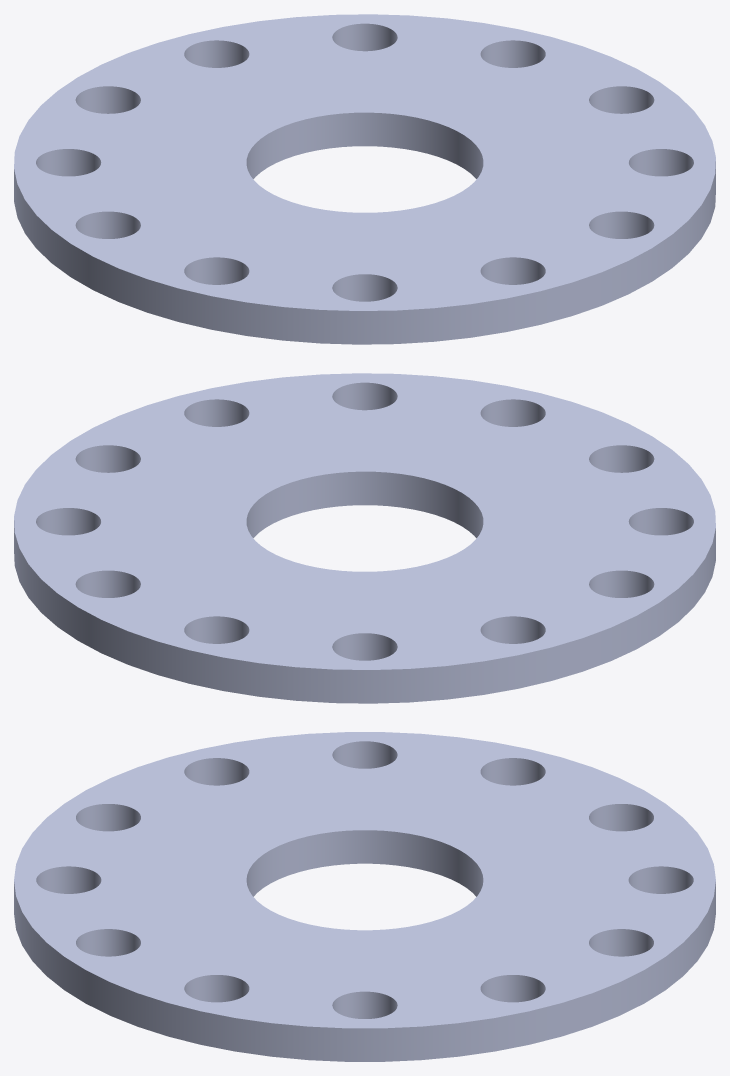
Rendered from _2025_Drivetrain_MotorSupport_R1.obj.
3 views of the same model, one above another, from view 1: azimuth 30°, elevation 25°; view 2: azimuth 150°, elevation 25°; view 3: azimuth 270°, elevation 25° (orthographic).
Parts seen in each view (by area): view 1: mesh17218, mesh17217, mesh17221, mesh17229, mesh17222, mesh17227, mesh17232, mesh17220, mesh17223, mesh17224, mesh17226, mesh17228 (+3 smaller); view 2: mesh17218, mesh17217, mesh17221, mesh17231, mesh17220, mesh17226, mesh17228, mesh17224, mesh17225, mesh17227, mesh17222, mesh17232 (+3 smaller); view 3: mesh17218, mesh17217, mesh17221, mesh17220, mesh17227, mesh17229, mesh17231, mesh17230, mesh17223, mesh17225, mesh17224, mesh17222 (+3 smaller).
Part boxes in pixels (x1,y1,x2,y2): mesh17218: [14, 14, 715, 310]; mesh17217: [14, 161, 715, 344]; mesh17221: [246, 112, 483, 179]; mesh17229: [184, 257, 249, 284]; mesh17222: [332, 23, 397, 51]; mesh17227: [480, 257, 545, 284]; mesh17232: [75, 86, 140, 113]; mesh17220: [184, 40, 249, 67]; mesh17223: [480, 40, 545, 67]; mesh17224: [589, 86, 654, 113]; mesh17226: [589, 211, 654, 238]; mesh17228: [332, 274, 397, 301]; mesh17218: [14, 373, 715, 669]; mesh17217: [14, 520, 715, 703]; mesh17221: [246, 471, 483, 538]; mesh17231: [480, 616, 545, 643]; mesh17220: [184, 616, 249, 643]; mesh17226: [332, 382, 397, 410]; mesh17228: [589, 445, 654, 472]; mesh17224: [75, 445, 140, 472]; mesh17225: [184, 399, 249, 426]; mesh17227: [480, 399, 545, 426]; mesh17222: [75, 570, 140, 597]; mesh17232: [332, 633, 397, 660]; mesh17218: [14, 732, 715, 1028]; mesh17217: [14, 882, 715, 1061]; mesh17221: [246, 830, 483, 896]; mesh17220: [628, 866, 693, 893]; mesh17227: [36, 866, 101, 893]; mesh17229: [184, 758, 249, 785]; mesh17231: [480, 758, 545, 785]; mesh17230: [332, 741, 397, 768]; mesh17223: [480, 975, 545, 1002]; mesh17225: [184, 975, 249, 1002]; mesh17224: [332, 991, 397, 1018]; mesh17222: [589, 929, 653, 956].
Bounding box in the file's own units: 0.0601 × 0.00317 × 0.0602.
